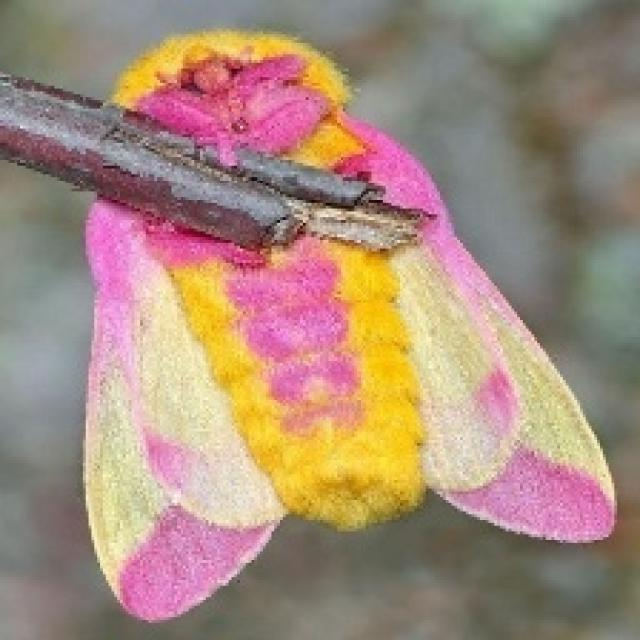butterfly: (72, 23, 617, 623)
